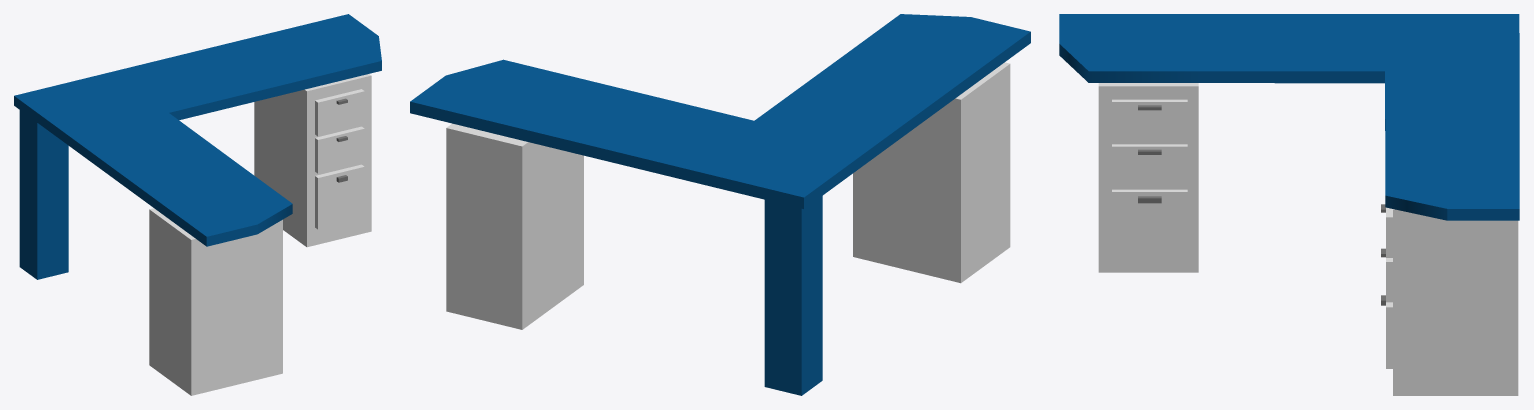
The model's file is Desk_CornerBlue.fbx.
The picture shows the model from 3 angles, left to right: view 1: azimuth 30°, elevation 25°; view 2: azimuth 150°, elevation 25°; view 3: azimuth 270°, elevation 25°; orthographic projection. The views are drawn at different scales.
Parts seen in each view (by area): view 1: DeskCorner2:polySurface4; view 2: DeskCorner2:polySurface4; view 3: DeskCorner2:polySurface4.
Part boxes in pixels (x1,y1,x2,y2): DeskCorner2:polySurface4: [14, 14, 381, 395]; DeskCorner2:polySurface4: [410, 14, 1030, 395]; DeskCorner2:polySurface4: [1059, 14, 1519, 395].
Size of the model in its own units: 1.48 by 0.7224 by 1.47.
